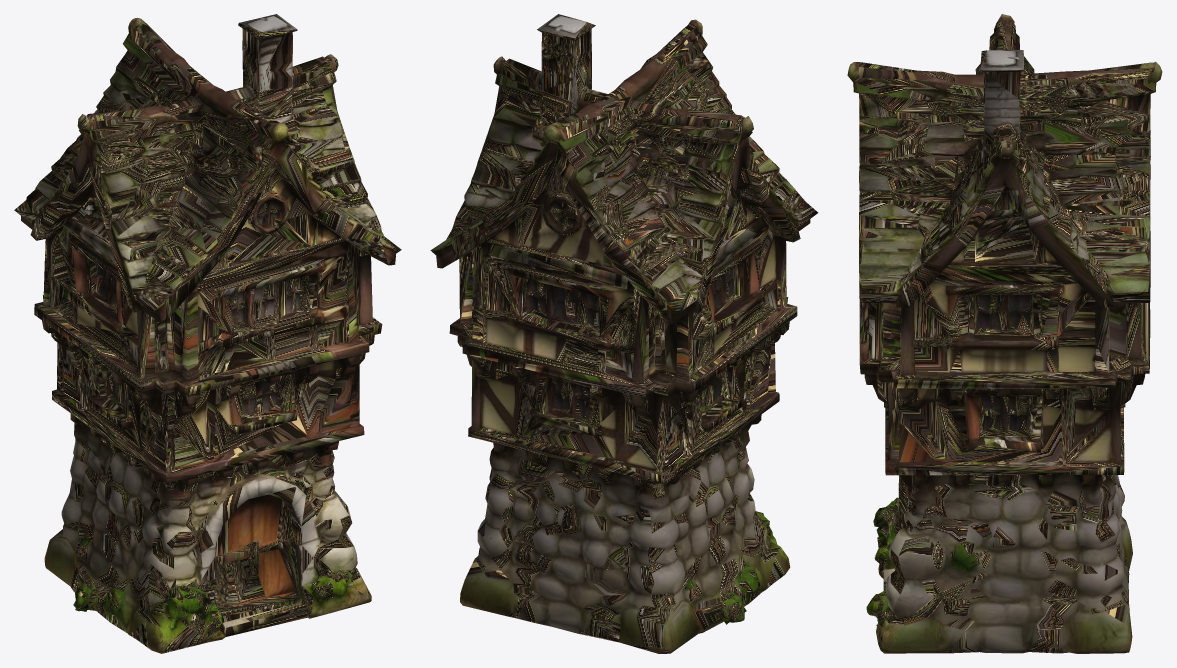
The model's file is Timberstone_Tower_Hou.glb.
3 renders of one model, left to right at view 1: azimuth 30°, elevation 25°; view 2: azimuth 150°, elevation 25°; view 3: azimuth 270°, elevation 25°, orthographic. The views are drawn at different scales.
Visible parts, largest first — view 1: Timberstone_Tower_Hou; view 2: Timberstone_Tower_Hou; view 3: Timberstone_Tower_Hou.
Boxes of the visible parts, x1,y1,x2,y2 form: Timberstone_Tower_Hou: [14, 14, 401, 653]; Timberstone_Tower_Hou: [430, 14, 818, 653]; Timberstone_Tower_Hou: [847, 14, 1162, 653].
Bounding box in the file's own units: 0.9392 × 1.91 × 0.9497.
Materials: 1 (1 with a texture image).
